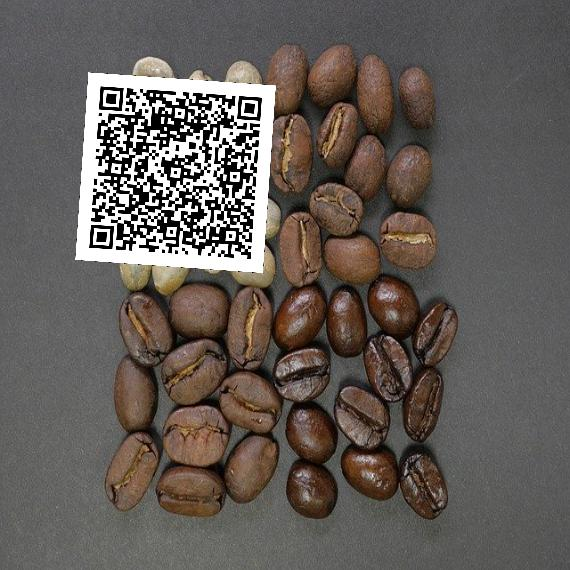qr_code: (75, 72, 275, 272)
